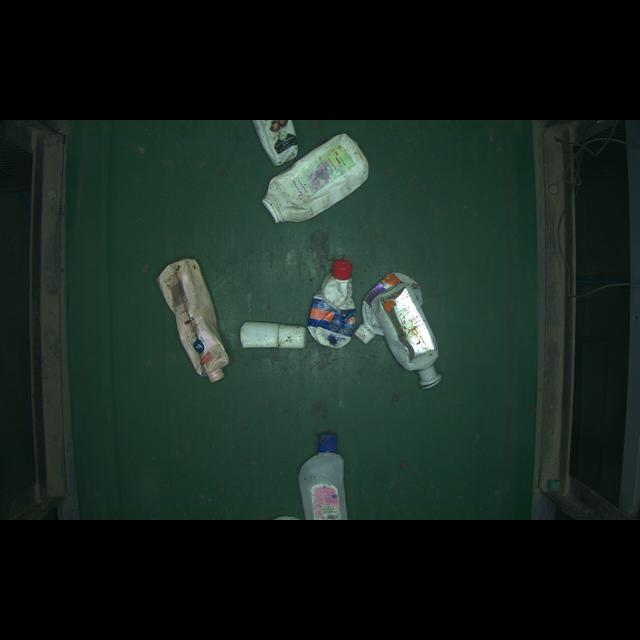mix PET: (355, 267, 475, 394), (249, 129, 384, 226), (145, 252, 237, 384), (305, 257, 358, 350), (237, 307, 308, 355)
